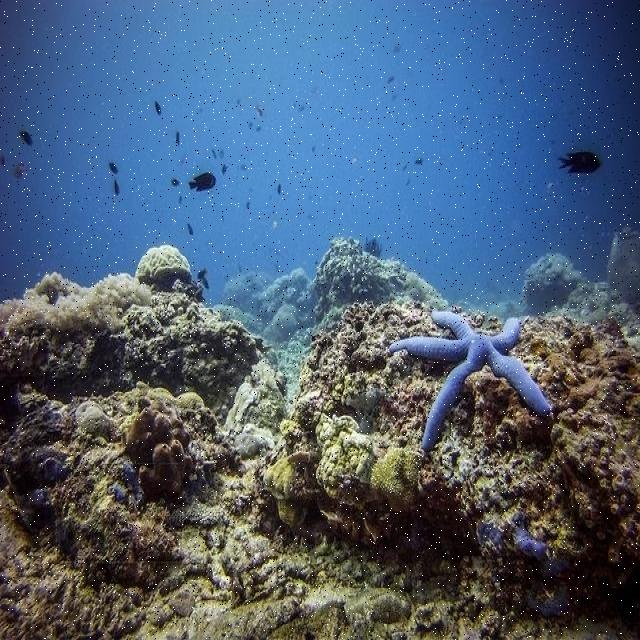fish: (554, 151, 600, 173), (189, 171, 216, 192)
reefs: (390, 312, 551, 452)
sea-floor: (0, 228, 639, 639)
